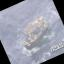fishing boat: (12, 9, 58, 54)
